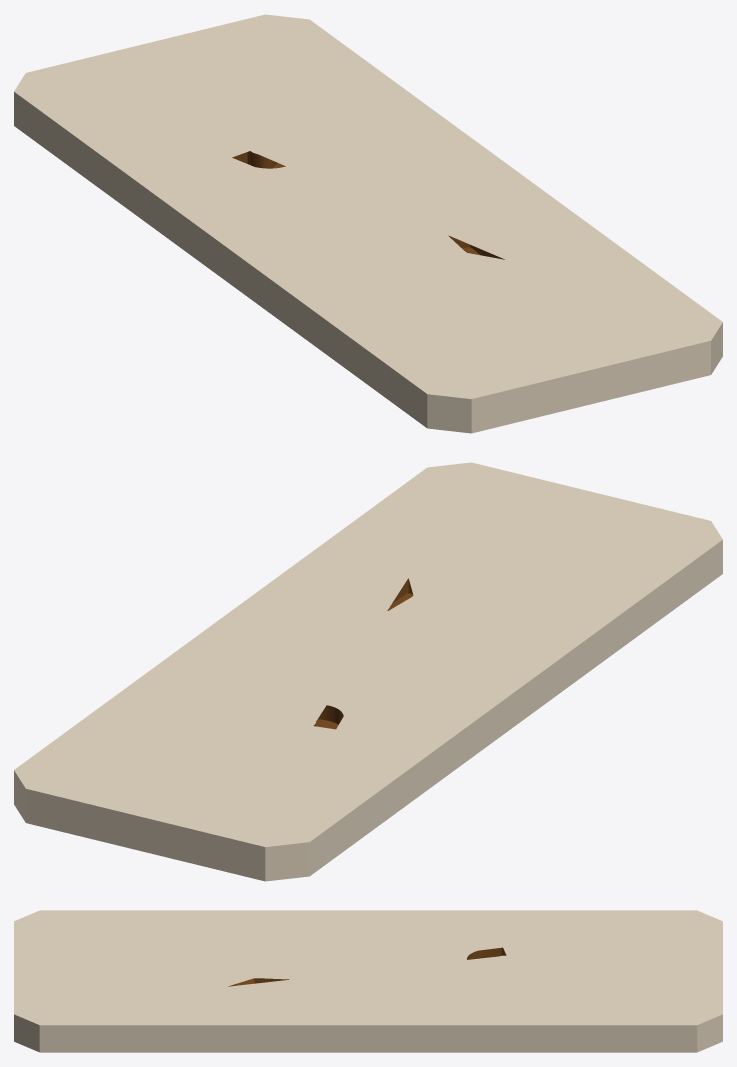
The model's file is Name_Zeus.fbx.
The picture shows the model from 3 angles, top to bottom: view 1: azimuth 30°, elevation 25°; view 2: azimuth 150°, elevation 25°; view 3: azimuth 270°, elevation 25°; orthographic projection. The views are drawn at different scales.
Visible parts, largest first — view 1: Cube.001; view 2: Cube.001; view 3: Cube.001.
Boxes of the visible parts, box(x1,y1,x2,y2) form: Cube.001: box(14, 14, 722, 433); Cube.001: box(14, 462, 722, 881); Cube.001: box(14, 910, 722, 1052).
Size of the model in its own units: 36.91 by 4.1 by 96.36.
